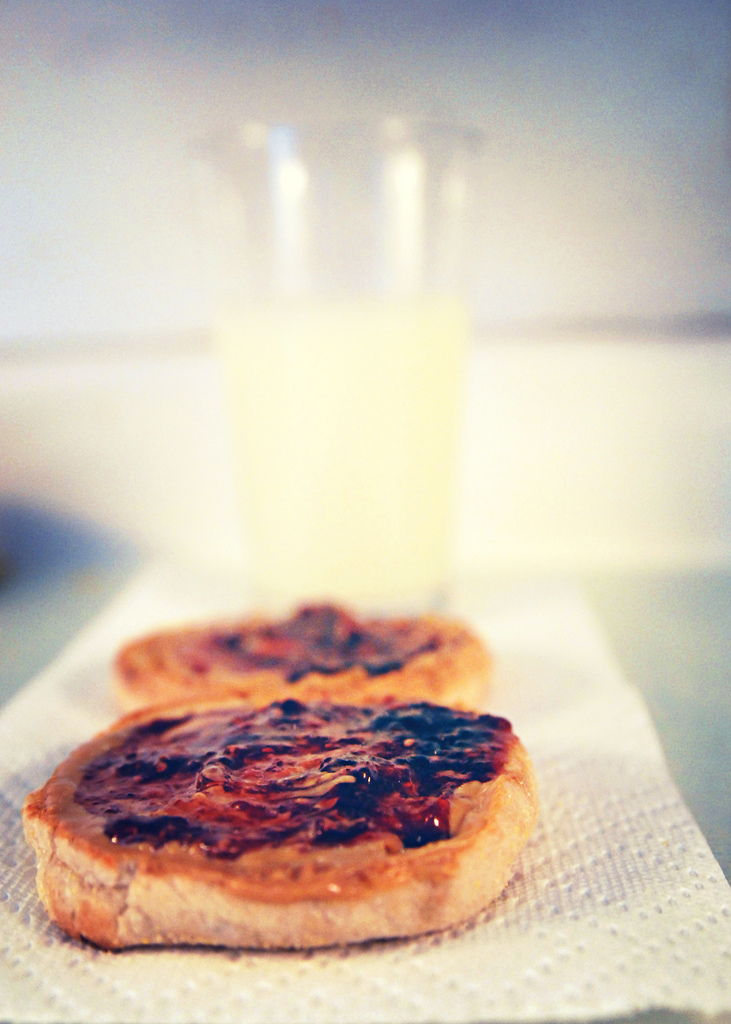slice of bread: (45, 661, 534, 939)
